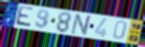0: (111, 20, 128, 41)
4: (93, 17, 109, 40)
8: (55, 11, 73, 35)
9: (34, 9, 50, 30)
E: (14, 6, 35, 29)
N: (70, 13, 94, 37)
